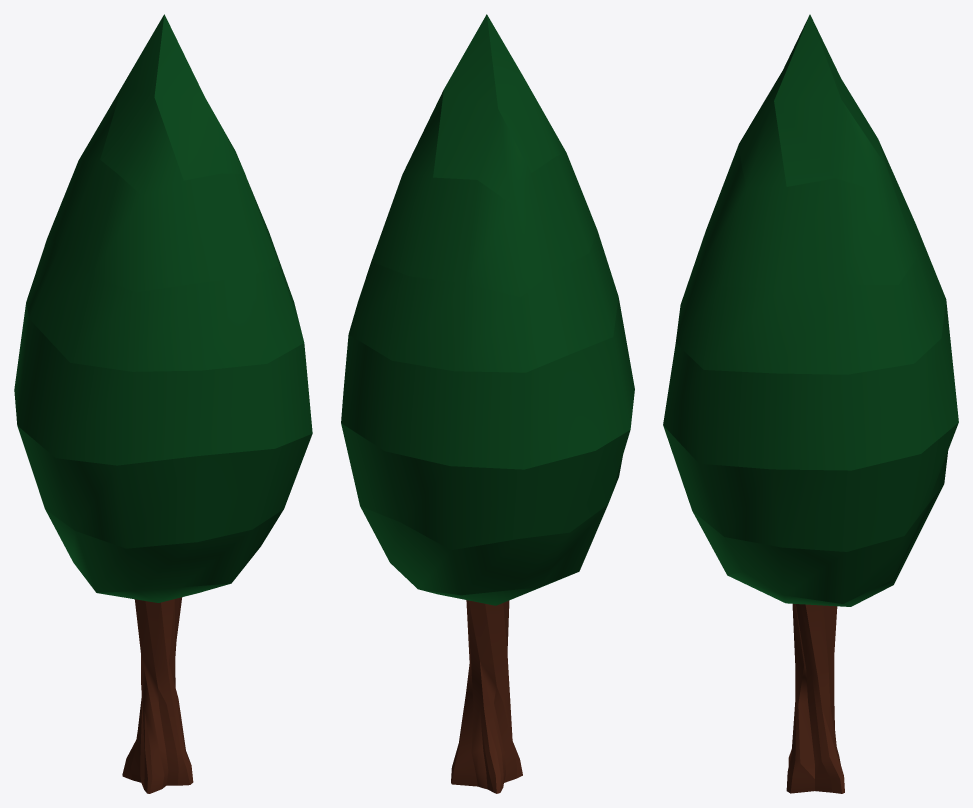
File: Tree_3_High.fbx
3 renders of one model, left to right at view 1: azimuth 30°, elevation 25°; view 2: azimuth 150°, elevation 25°; view 3: azimuth 270°, elevation 25°, orthographic.
Parts seen in each view (by area): view 1: Tree_3_High; view 2: Tree_3_High; view 3: Tree_3_High.
Boxes of the visible parts, bbox=[...] form: Tree_3_High: bbox=[14, 14, 312, 793]; Tree_3_High: bbox=[341, 14, 634, 793]; Tree_3_High: bbox=[663, 14, 958, 793].
Size of the model in its own units: 80.98 by 236 by 82.06.
